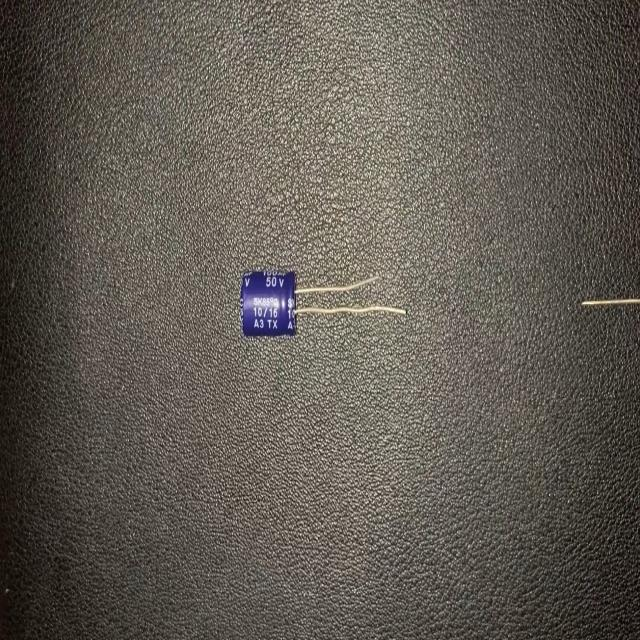capacitor: (239, 269, 410, 342)
